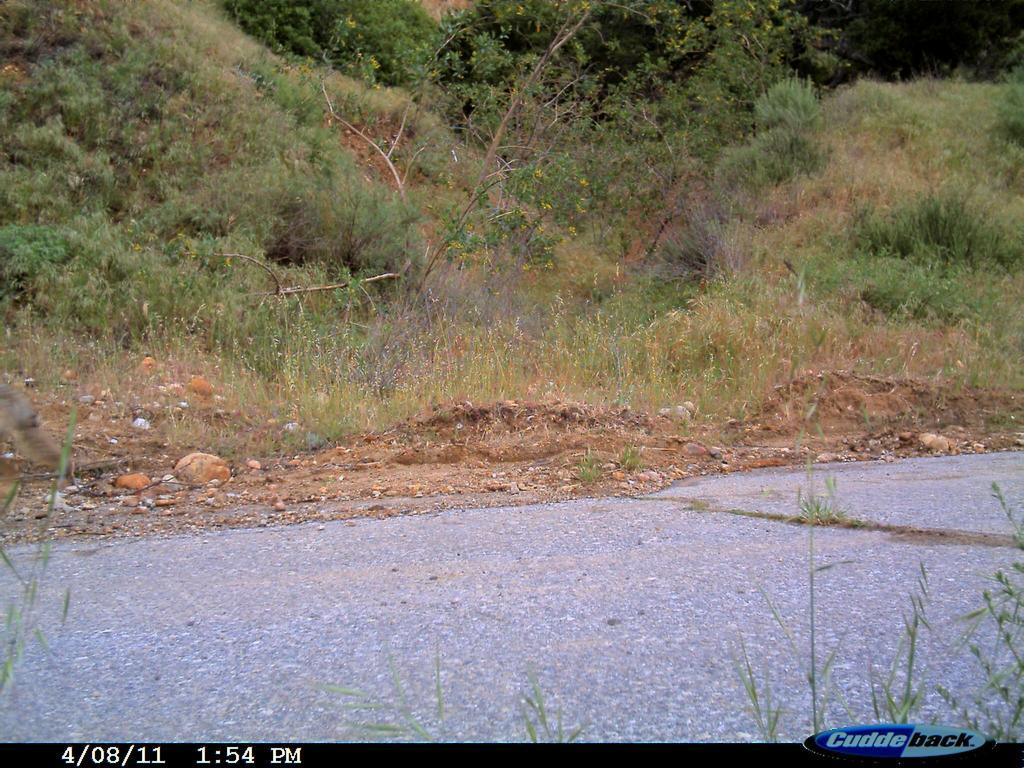coyote: (2, 359, 77, 504)
